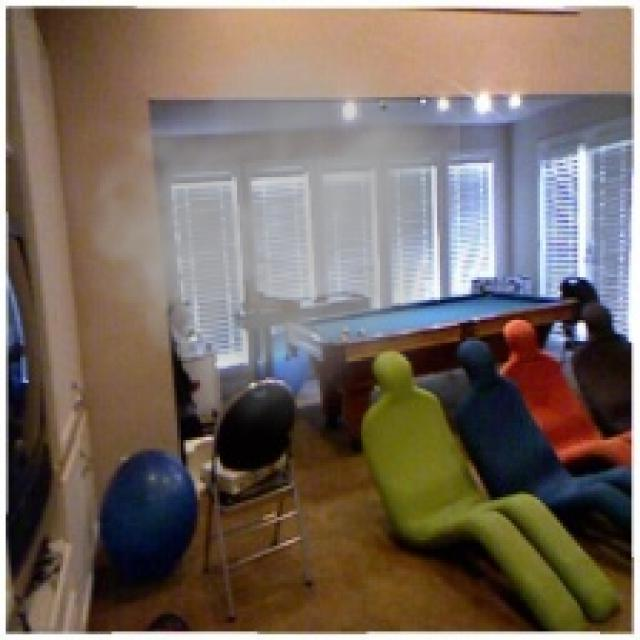smoke: (43, 14, 460, 437)
